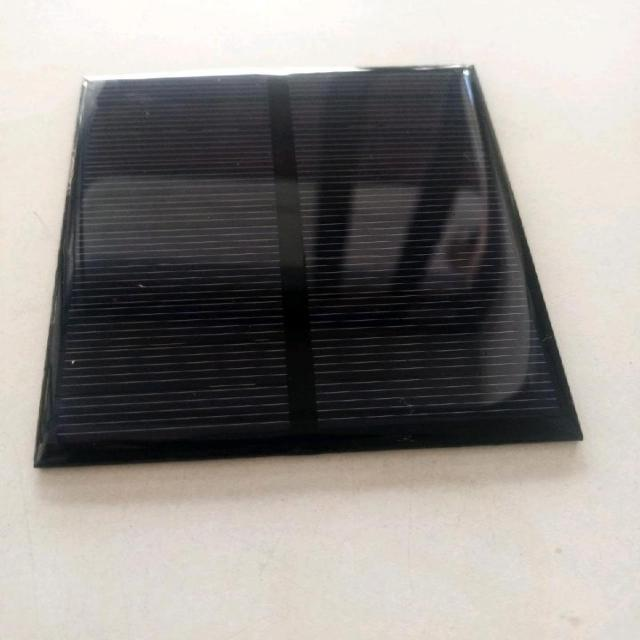Normal Solar Panel: (34, 66, 582, 468)
